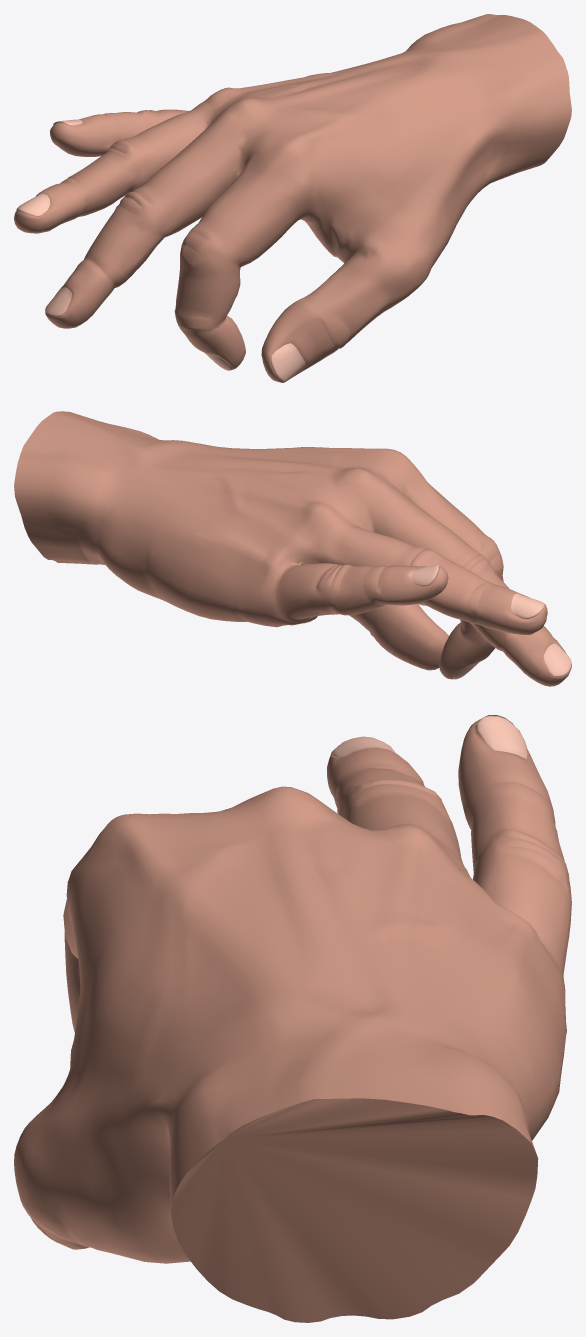
Rendered from hand_11.obj.
3 views of the same model, one above another, from view 1: azimuth 30°, elevation 25°; view 2: azimuth 150°, elevation 25°; view 3: azimuth 270°, elevation 25° (orthographic). The views are drawn at different scales.
Visible parts, largest first — view 1: Figure_2; view 2: Figure_2; view 3: Figure_2.
Boxes of the visible parts, <box> form: Figure_2: <box>14,14,571,382</box>; Figure_2: <box>14,411,571,686</box>; Figure_2: <box>14,715,571,1322</box>.
Bounding box in the file's own units: 0.8576 × 0.3764 × 0.4109.
